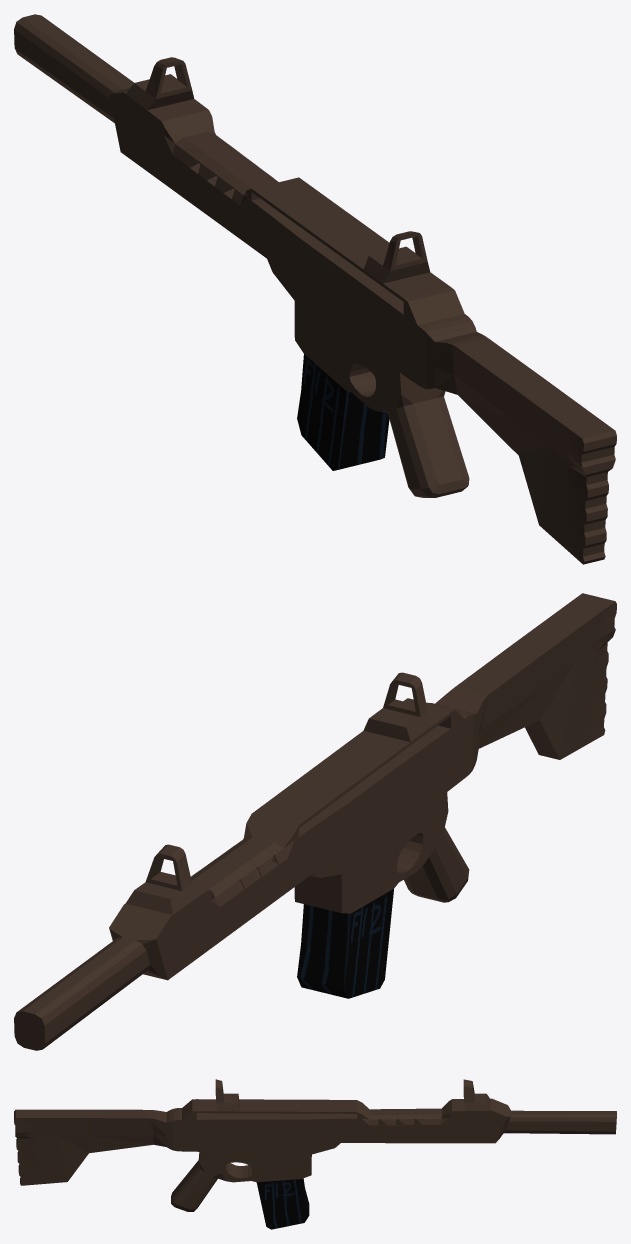
3 views of the same model, one above another, from view 1: azimuth 30°, elevation 25°; view 2: azimuth 150°, elevation 25°; view 3: azimuth 270°, elevation 25° (orthographic). The views are drawn at different scales.
Parts seen in each view (by area): view 1: Cube, Cube.001; view 2: Cube, Cube.001; view 3: Cube, Cube.001.
Boxes of the visible parts, box(x1,y1,x2,y2) form: Cube: box(14, 14, 616, 564); Cube.001: box(297, 354, 389, 470); Cube: box(14, 593, 616, 1050); Cube.001: box(297, 889, 393, 998); Cube: box(14, 1079, 616, 1211); Cube.001: box(256, 1178, 309, 1229).
Size of the model in its own units: 55.24 by 302 by 1158.
Materials: 2 (1 with a texture image).
